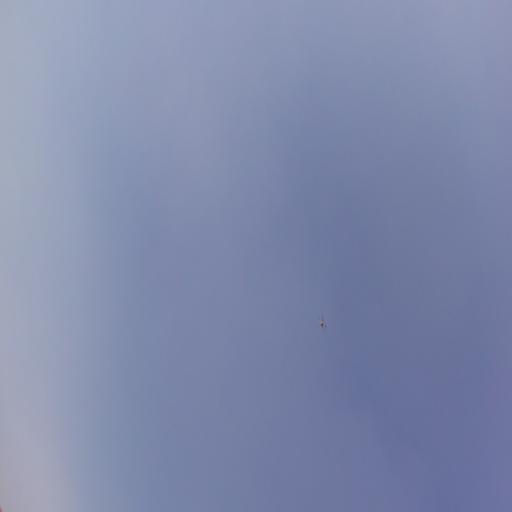drones: (318, 314, 327, 334)
